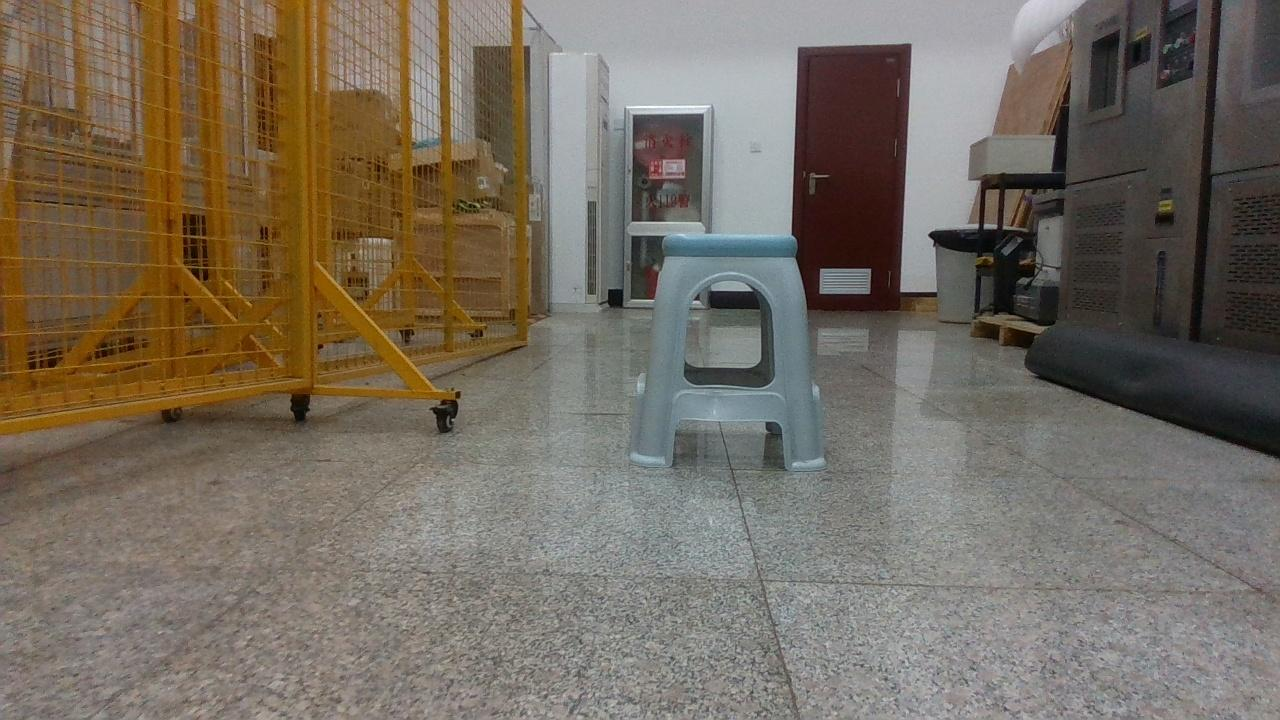stool: (630, 235, 822, 470)
